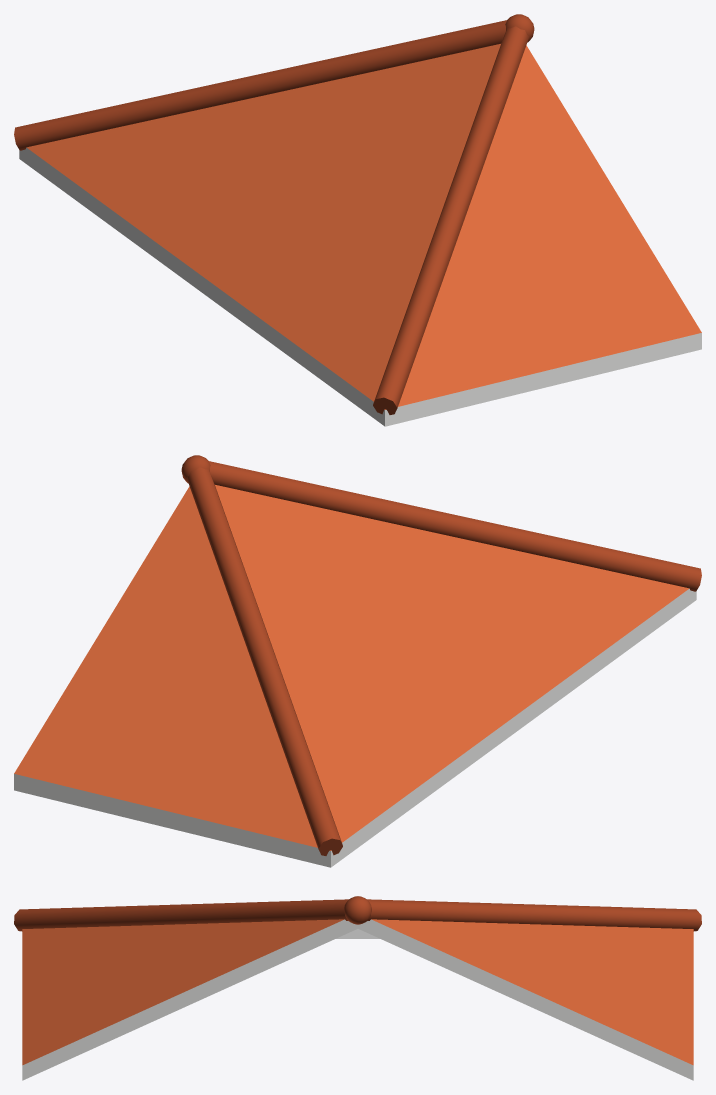
Rendered from telhado_quatro_aguas_ponta_v4_i50.glb.
3 views of the same model, one above another, from view 1: azimuth 30°, elevation 25°; view 2: azimuth 150°, elevation 25°; view 3: azimuth 270°, elevation 25° (orthographic). The views are drawn at different scales.
Visible parts, largest first — view 1: telhado_quatro_aguas_ponta_v4_i50; view 2: telhado_quatro_aguas_ponta_v4_i50; view 3: telhado_quatro_aguas_ponta_v4_i50.
Boxes of the visible parts, <box> form: telhado_quatro_aguas_ponta_v4_i50: <box>14,14,701,426</box>; telhado_quatro_aguas_ponta_v4_i50: <box>14,455,701,867</box>; telhado_quatro_aguas_ponta_v4_i50: <box>14,896,701,1080</box>.
Size of the model in its own units: 2.13 by 1.21 by 4.1.
